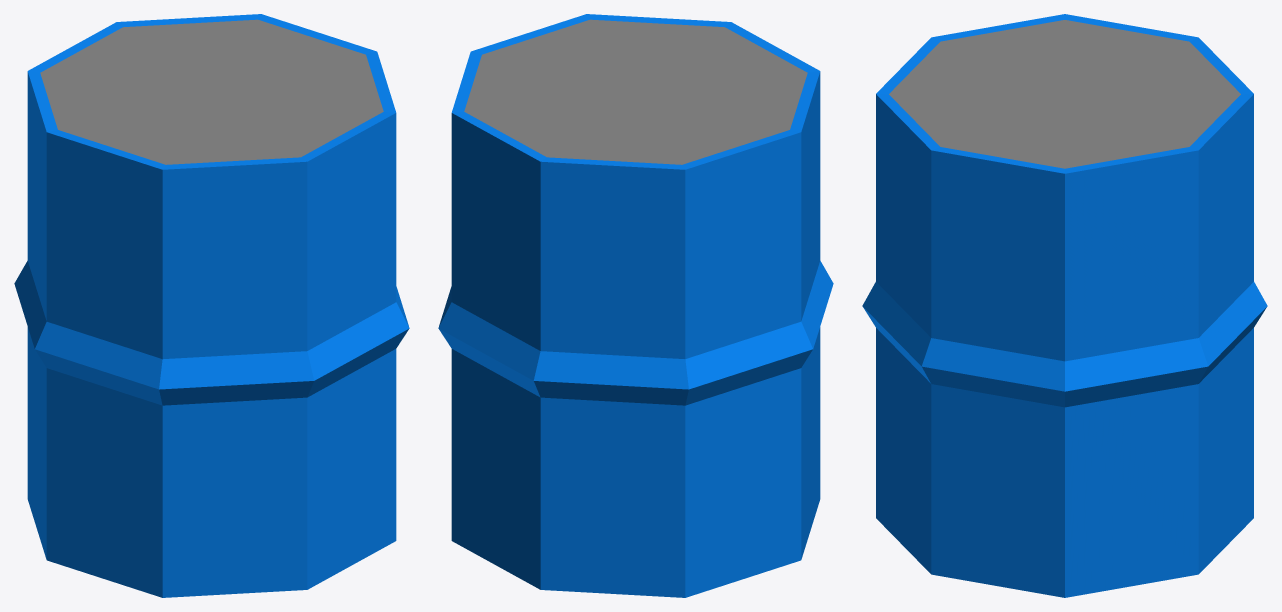
Rendered from BarellBlue.fbx.
3 renders of one model, left to right at view 1: azimuth 30°, elevation 25°; view 2: azimuth 150°, elevation 25°; view 3: azimuth 270°, elevation 25°, orthographic.
Parts seen in each view (by area): view 1: Cube.001; view 2: Cube.001; view 3: Cube.001.
Boxes of the visible parts, bbox=[...] form: Cube.001: bbox=[14, 14, 409, 597]; Cube.001: bbox=[438, 14, 833, 597]; Cube.001: bbox=[862, 14, 1267, 597].
Size of the model in its own units: 83.18 by 96.04 by 83.18.
